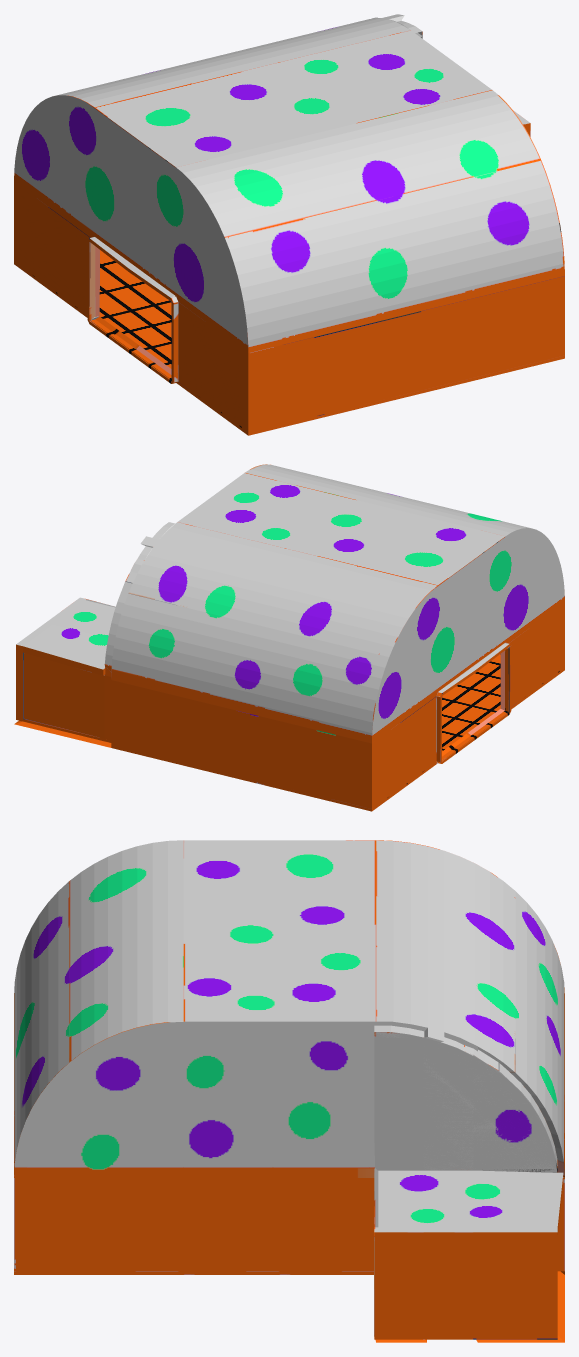
The model's file is Loja (1).fbx.
3 renders of one model, top to bottom at view 1: azimuth 30°, elevation 25°; view 2: azimuth 150°, elevation 25°; view 3: azimuth 270°, elevation 25°, orthographic. The views are drawn at different scales.
Parts seen in each view (by area): view 1: Cube; view 2: Cube; view 3: Cube.
Part boxes in pixels (left/top/right/bottom): Cube: left=14, top=14, right=564, bottom=435; Cube: left=14, top=464, right=564, bottom=811; Cube: left=14, top=840, right=564, bottom=1342.
Size of the model in its own units: 447 by 208 by 411.
